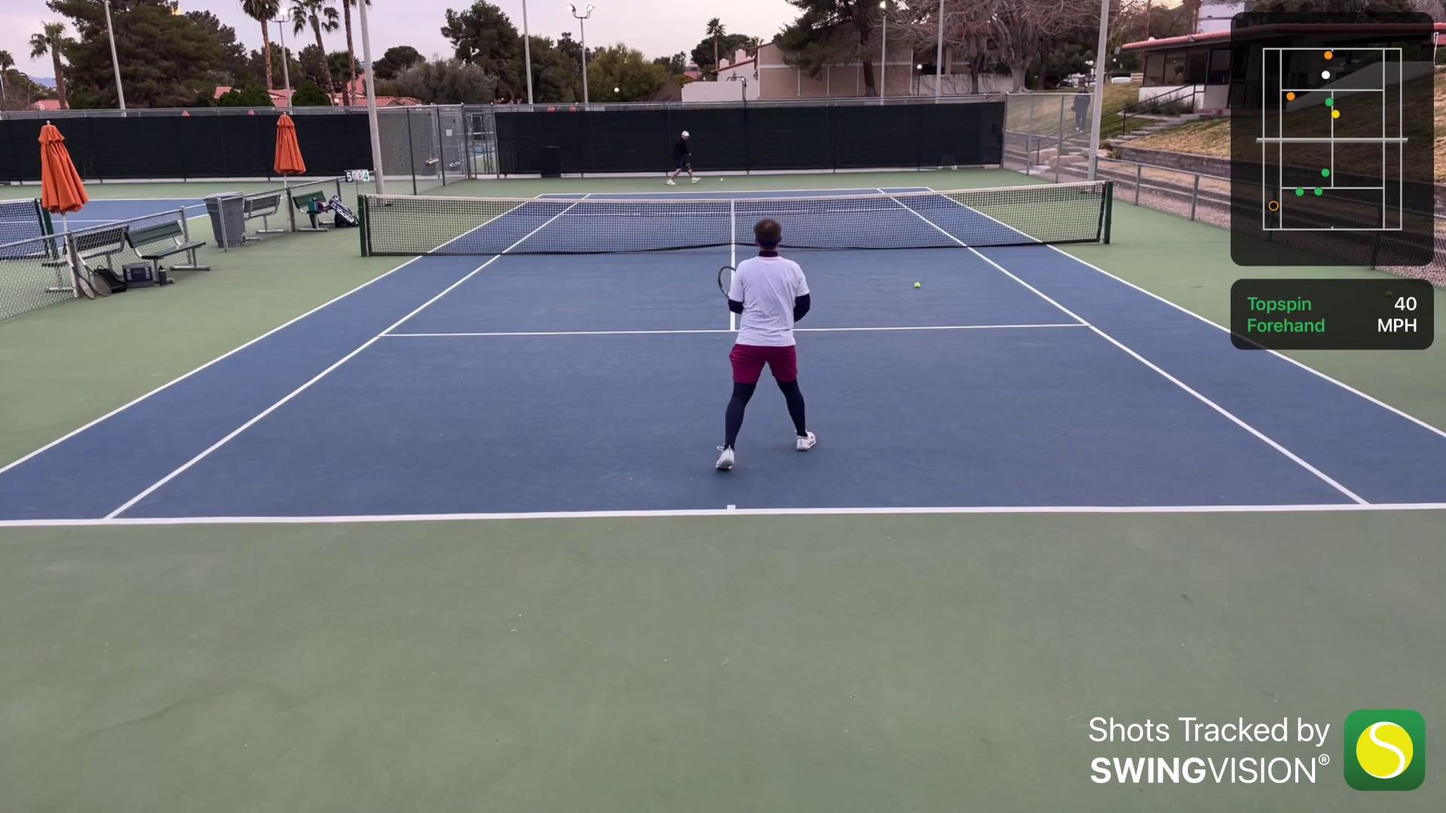ball: (909, 279, 922, 292), (718, 177, 724, 184)
